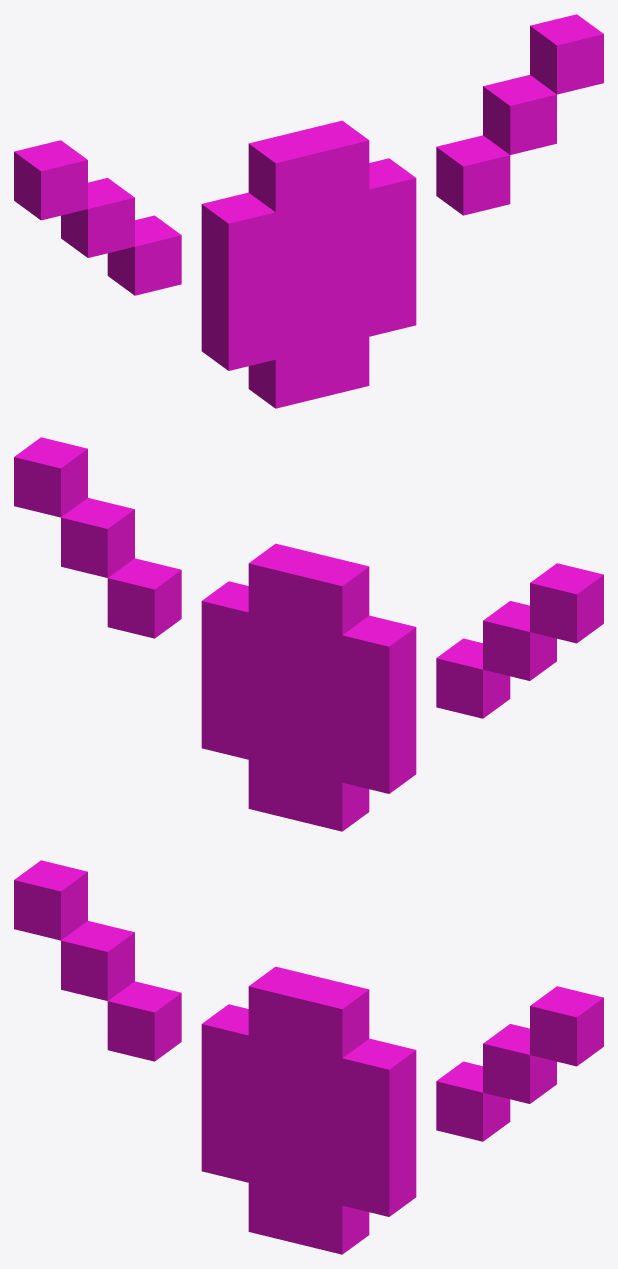
3 views of the same model, one above another, from view 1: azimuth 30°, elevation 25°; view 2: azimuth 150°, elevation 25°; view 3: azimuth 330°, elevation 25° (orthographic).
Parts seen in each view (by area): view 1: 104.1; view 2: 104.1; view 3: 104.1.
Part boxes in pixels (left/top/right/bottom): 104.1: left=14, top=14, right=603, bottom=408; 104.1: left=14, top=437, right=603, bottom=831; 104.1: left=14, top=860, right=603, bottom=1254.
Size of the model in its own units: 120 by 60 by 10.
1 material, 1 textured.
